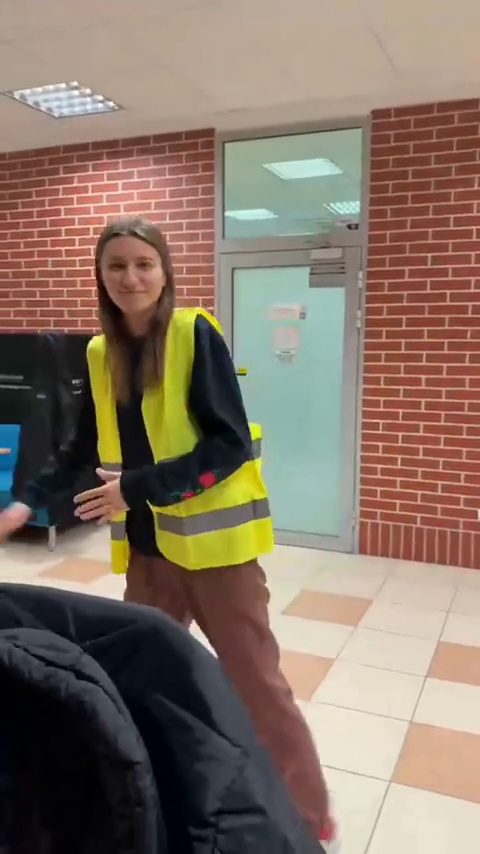vest: (53, 205, 326, 774)
